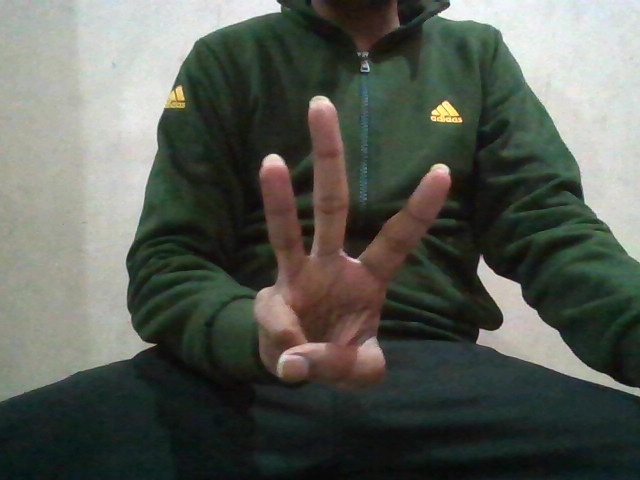W: (255, 92, 457, 387)
